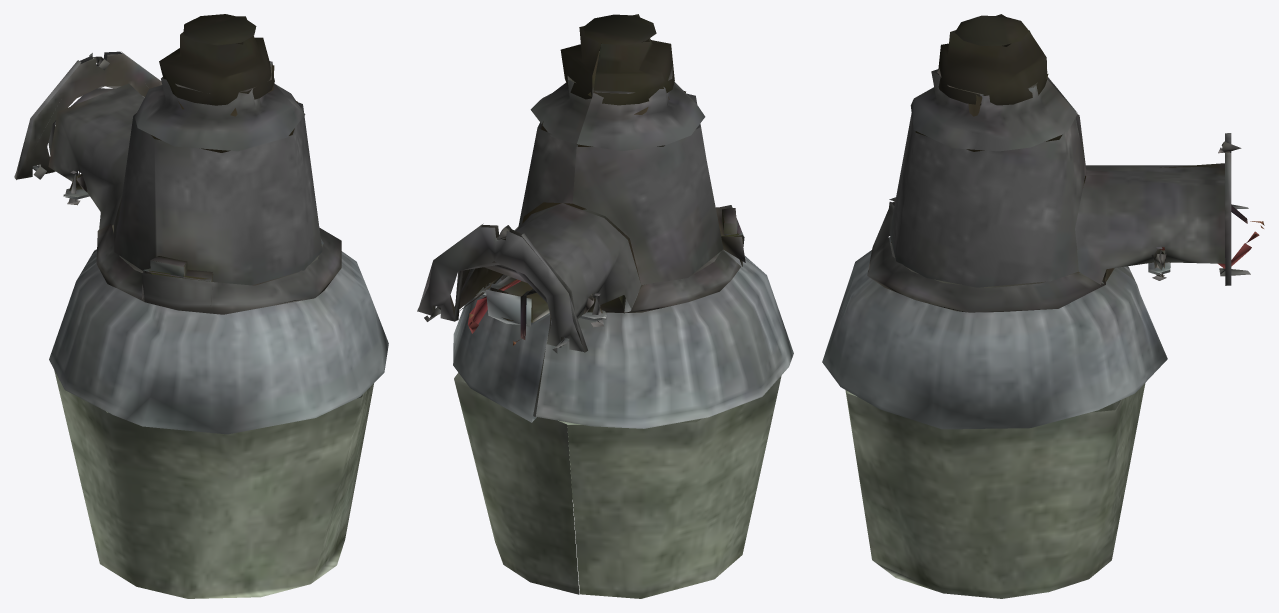
File: security_light.glb
3 views of the same model, side by side, from view 1: azimuth 30°, elevation 25°; view 2: azimuth 150°, elevation 25°; view 3: azimuth 270°, elevation 25° (orthographic).
Visible parts, largest first — view 1: security_light, security_light_glass; view 2: security_light, security_light_glass; view 3: security_light, security_light_glass.
Boxes of the visible parts, x1=… form: security_light: x1=14, y1=14, x2=388, y2=434; security_light_glass: x1=54, y1=370, x2=373, y2=598; security_light: x1=417, y1=14, x2=793, y2=428; security_light_glass: x1=454, y1=372, x2=781, y2=598; security_light: x1=822, y1=14, x2=1264, y2=429; security_light_glass: x1=845, y1=383, x2=1145, y2=598.
Bounding box in the file's own units: 0.3174 × 0.5302 × 0.4128.
Materials: 2 (2 with a texture image).
